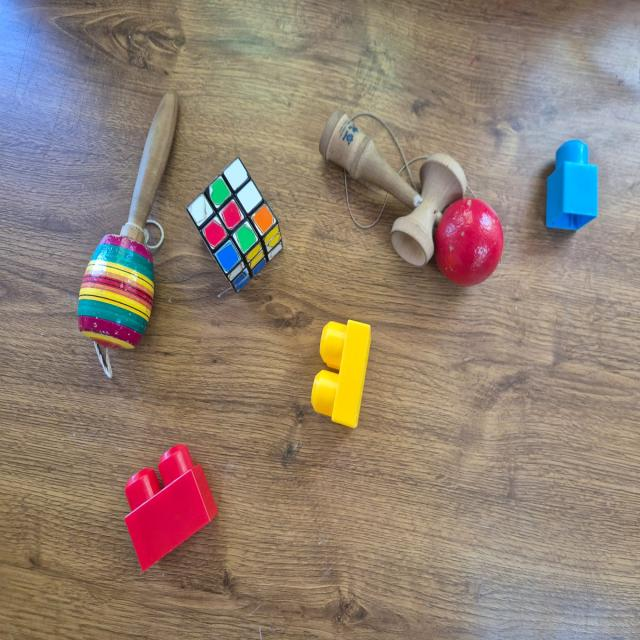balero: (76, 90, 181, 385)
balero ball: (320, 105, 504, 290)
lego 2: (120, 442, 219, 569)
lego 4: (310, 318, 374, 426)
lego_1: (546, 138, 598, 229)
rubick: (184, 158, 284, 295)
